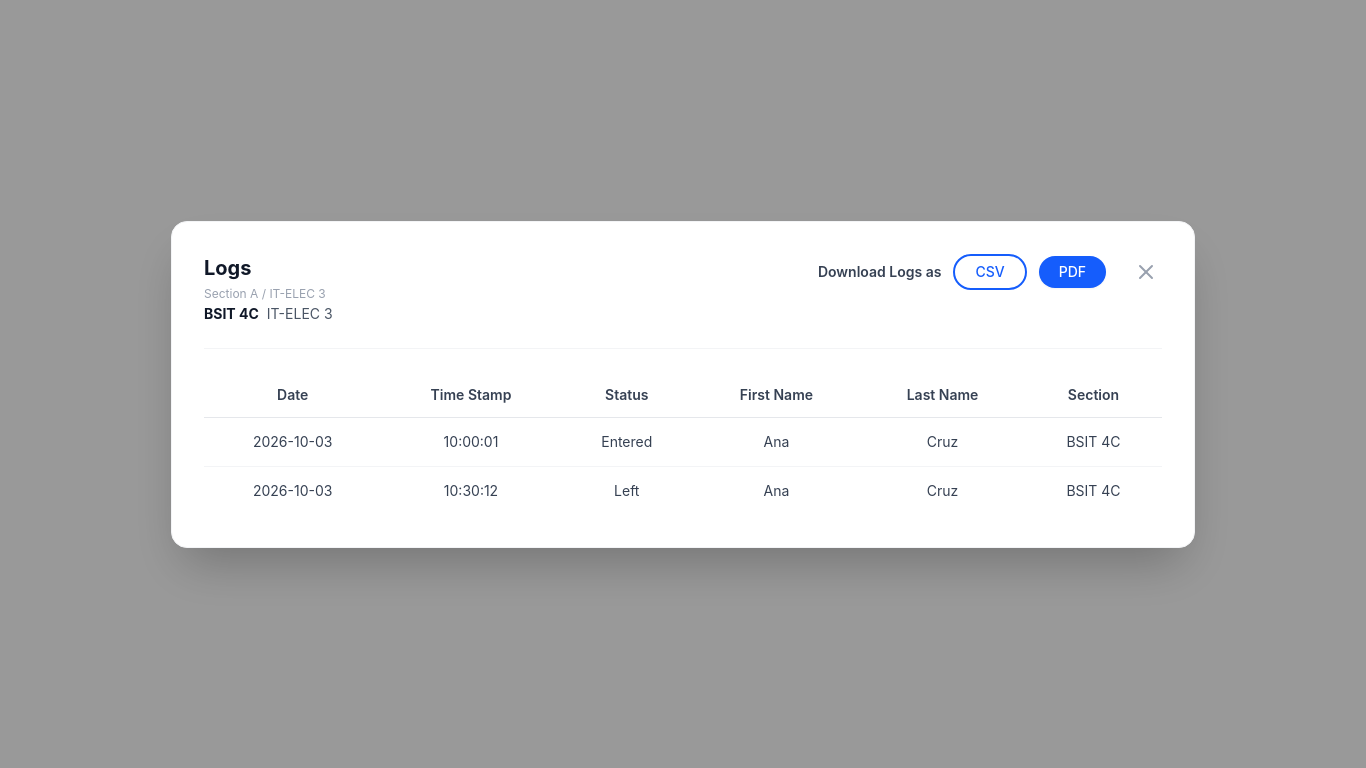
Logs modal › download state and errors › shows the error message when the network request fails
This screenshot has width=1366, height=768.
Click the button "CSV" at (990, 272), box top-left (953, 254), bottom-right (1027, 290)
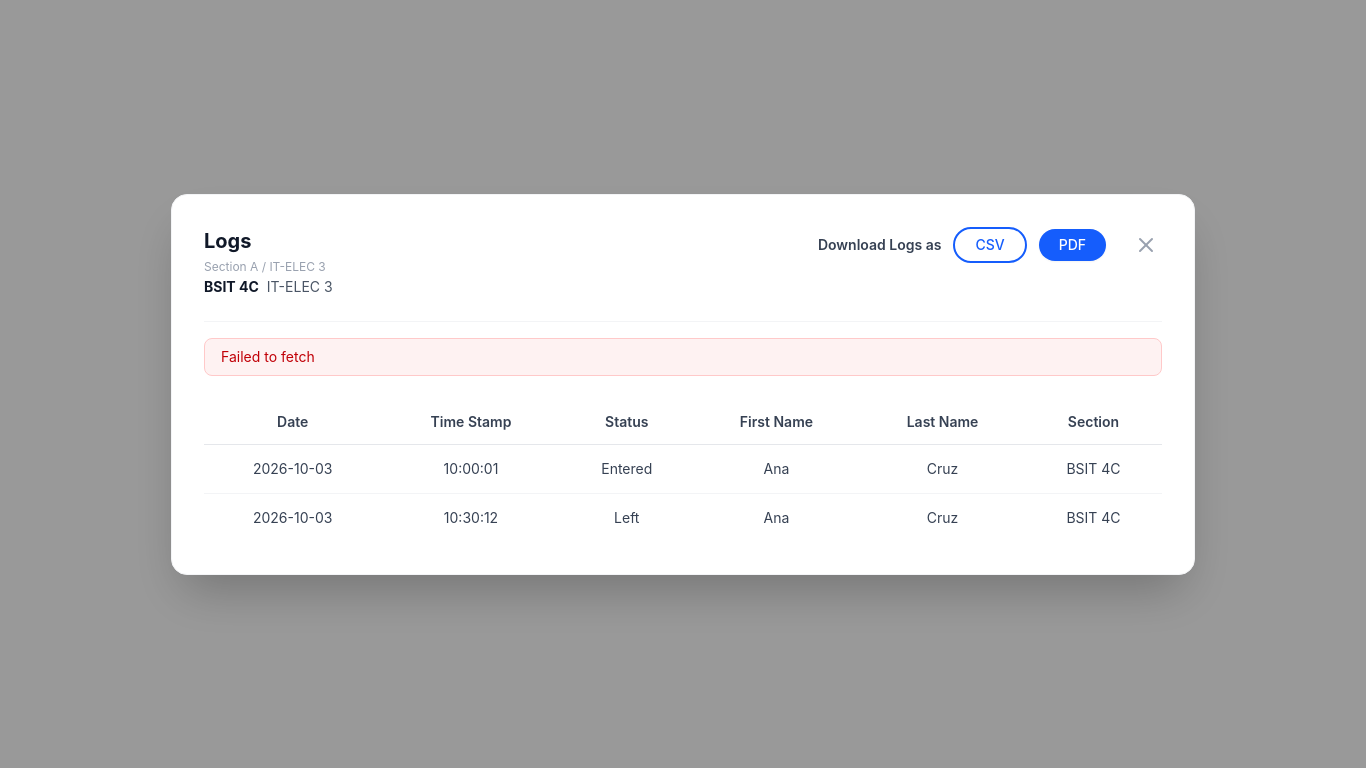
Expected: the text "Failed to fetch" is shown, top-left (204, 338), bottom-right (1162, 376)
